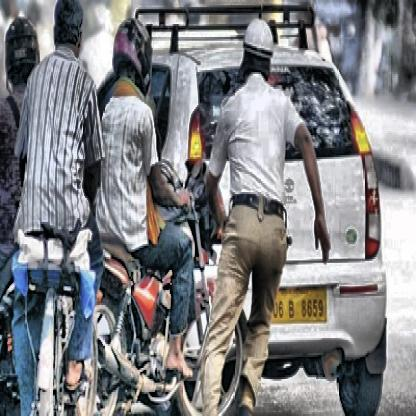not_wear: (241, 19, 270, 87), (54, 1, 84, 56)
wear: (113, 24, 148, 88), (4, 18, 37, 84)
